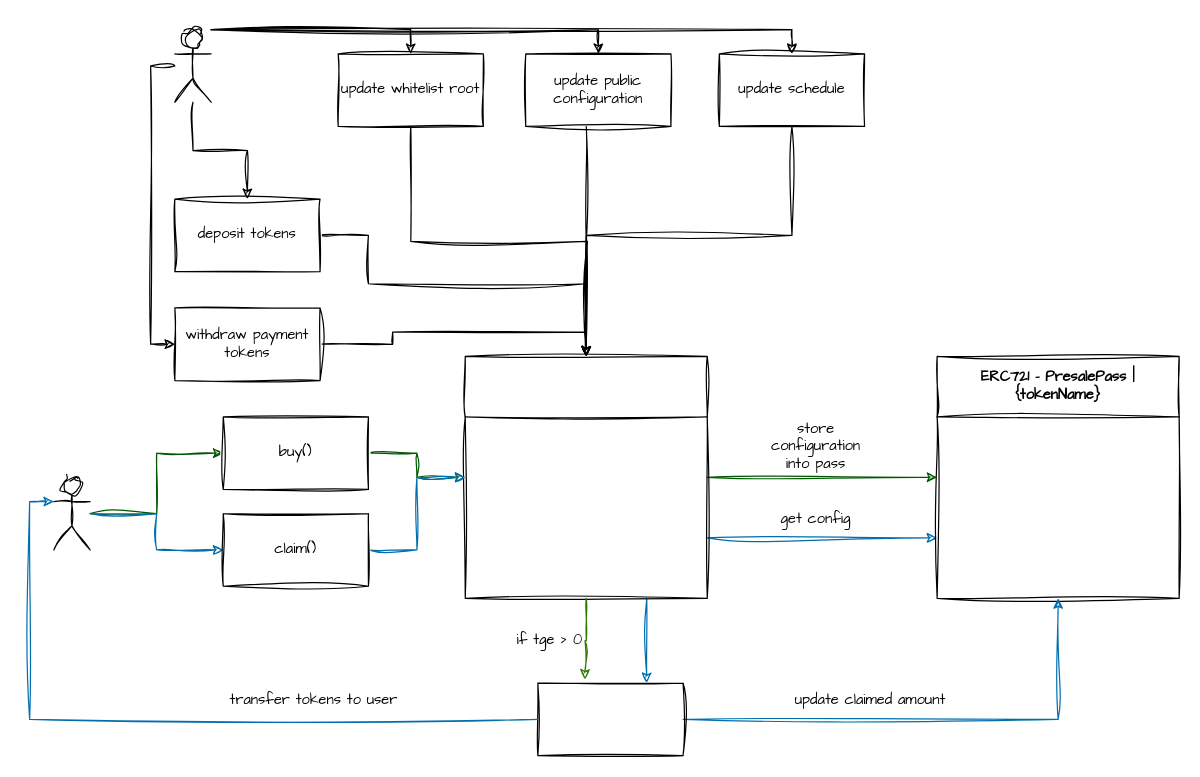
Image size: 1200x777. Some labels were removed from this diagram. The shapes that lost their labels are listed below. From the top down, each one's centre as x and y in pixels, then its label:
At pixel 192 65: "owner".
At pixel 585 476: "Presale".
At pixel 71 513: "user".
At pixel 610 719: "_release()".
